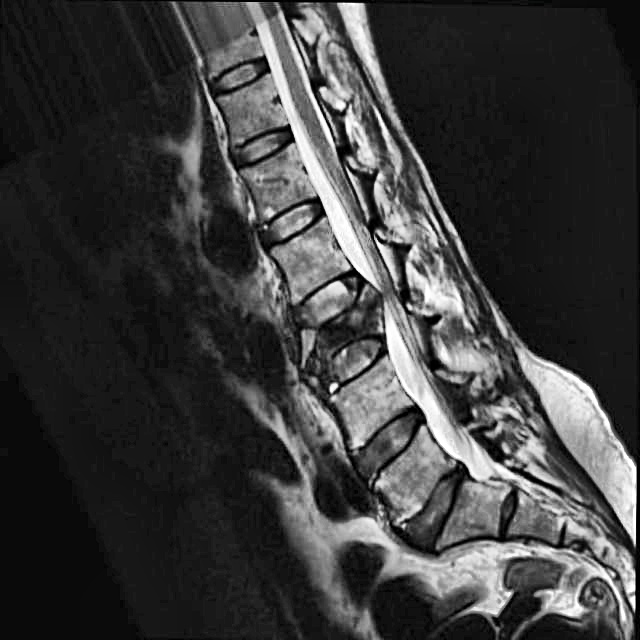Comminuted: (273, 268, 400, 396)
